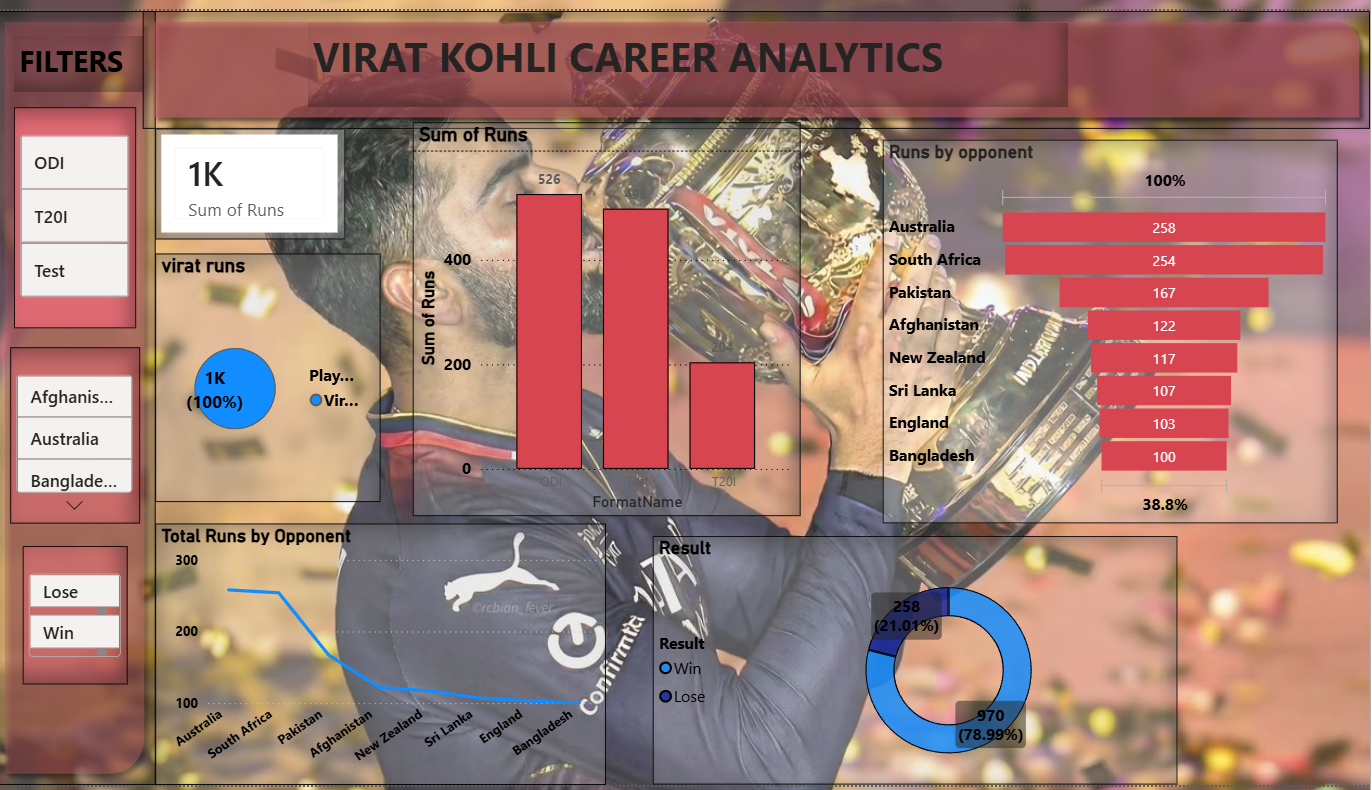

This screenshot's page, from the dashboard's own definition file:
{"tool":"powerbi","page":{"name":"Page 1","canvas":[1280,720],"ordinal":0},"visuals":[{"type":"shape","box":[0,0,150,719.8],"z":0},{"type":"shape","box":[138.4,0,1141.9,109.3],"z":1000},{"type":"cardVisual","fields":{"Rows":["virat.FormatName"]},"box":[18.6,89.5,114,205.8],"z":2000},{"type":"textbox","box":[18.6,23.3,119.8,52.3],"z":3000},{"type":"cardVisual","fields":{"Rows":["virat.Opponent"]},"box":[15.1,312.8,120.9,164],"z":4000},{"type":"cardVisual","fields":{"Rows":["virat.Result"]},"box":[26.7,497.7,97.7,129.1],"z":5000},{"type":"cardVisual","fields":{"Data":["Sum(virat.Runs)"]},"box":[150,109.3,176.7,103.5],"z":6000},{"type":"columnChart","title":"Sum of Runs","fields":{"Category":["virat.FormatName"],"Y":["Sum(virat.Runs)"]},"box":[389.5,103.5,360.5,366.3],"z":7000},{"type":"lineChart","title":"Total Runs by Opponent","fields":{"Category":["virat.Opponent"],"Y":["Sum(virat.Runs)"]},"box":[149.9,476.8,419.3,243.5],"z":8000},{"type":"donutChart","title":"Result","fields":{"Category":["virat.Result"],"Y":["Sum(virat.Runs)"]},"box":[612.8,488.4,488.4,231.4],"z":9000},{"type":"pieChart","title":"virat runs","fields":{"Category":["virat.PlayerName"],"Y":["Sum(virat.Runs)"]},"box":[150,225.6,209.3,231.4],"z":10000},{"type":"funnel","title":"Runs  by opponent","fields":{"Category":["virat.Opponent"],"Y":["Sum(virat.Runs)"]},"box":[826.7,119.8,423.3,357],"z":11000},{"type":"textbox","box":[291.9,11.6,707,77.9],"z":12000}]}

Visuals, with their boxes in screenshot pixels (x1, y1, x2, y2), scaled from the page's 1280x720 canvas onto the 1372x790 screenshot:
shape: (x1=0, y1=0, x2=161, y2=789)
shape: (x1=148, y1=0, x2=1371, y2=120)
cardVisual - virat.FormatName: (x1=20, y1=98, x2=142, y2=324)
textbox: (x1=20, y1=26, x2=148, y2=83)
cardVisual - virat.Opponent: (x1=16, y1=343, x2=146, y2=523)
cardVisual - virat.Result: (x1=29, y1=546, x2=133, y2=688)
cardVisual - Sum(virat.Runs): (x1=161, y1=120, x2=350, y2=233)
"Sum of Runs" columnChart: (x1=417, y1=114, x2=804, y2=515)
"Total Runs by Opponent" lineChart: (x1=161, y1=523, x2=610, y2=789)
"Result" donutChart: (x1=657, y1=536, x2=1180, y2=789)
"virat runs" pieChart: (x1=161, y1=248, x2=385, y2=501)
"Runs  by opponent" funnel: (x1=886, y1=131, x2=1340, y2=523)
textbox: (x1=313, y1=13, x2=1071, y2=98)
